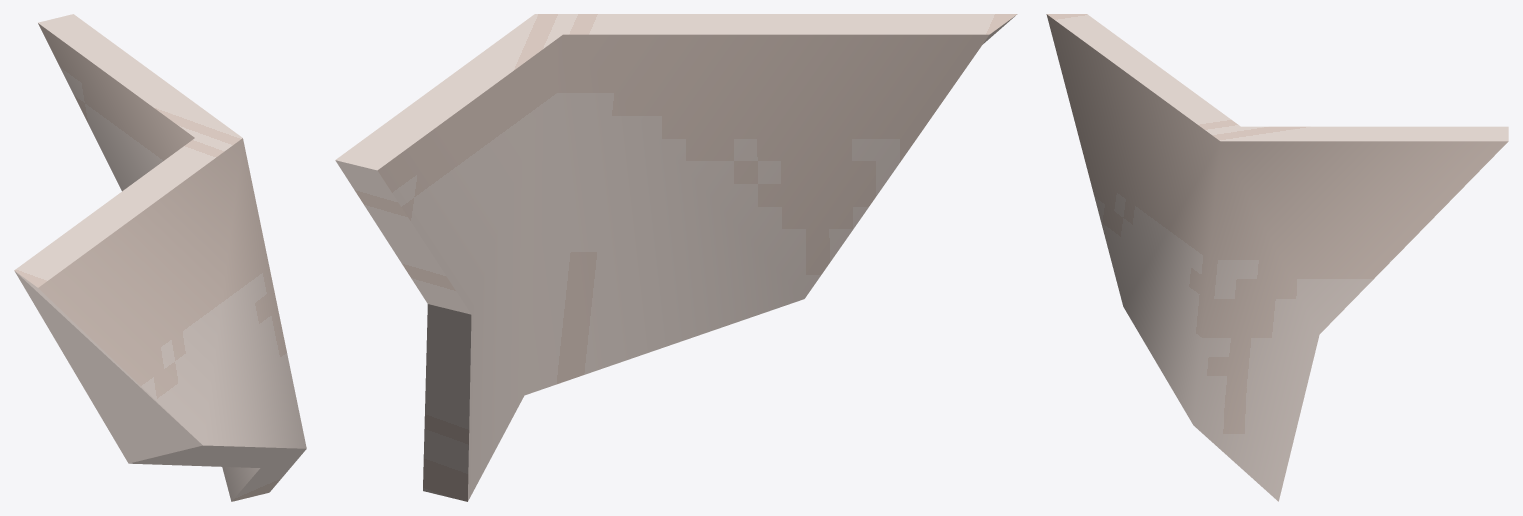
Rendered from wine_glass_gib_02.glb.
3 views of the same model, side by side, from view 1: azimuth 30°, elevation 25°; view 2: azimuth 150°, elevation 25°; view 3: azimuth 270°, elevation 25° (orthographic). The views are drawn at different scales.
Visible parts, largest first — view 1: gib_02; view 2: gib_02; view 3: gib_02.
Part boxes in pixels (x1,y1,x2,y2): gib_02: [14, 14, 306, 501]; gib_02: [335, 14, 1017, 501]; gib_02: [1046, 14, 1508, 501].
Size of the model in its own units: 0.1348 by 0.1381 by 0.1724.
1 material, 1 textured.
